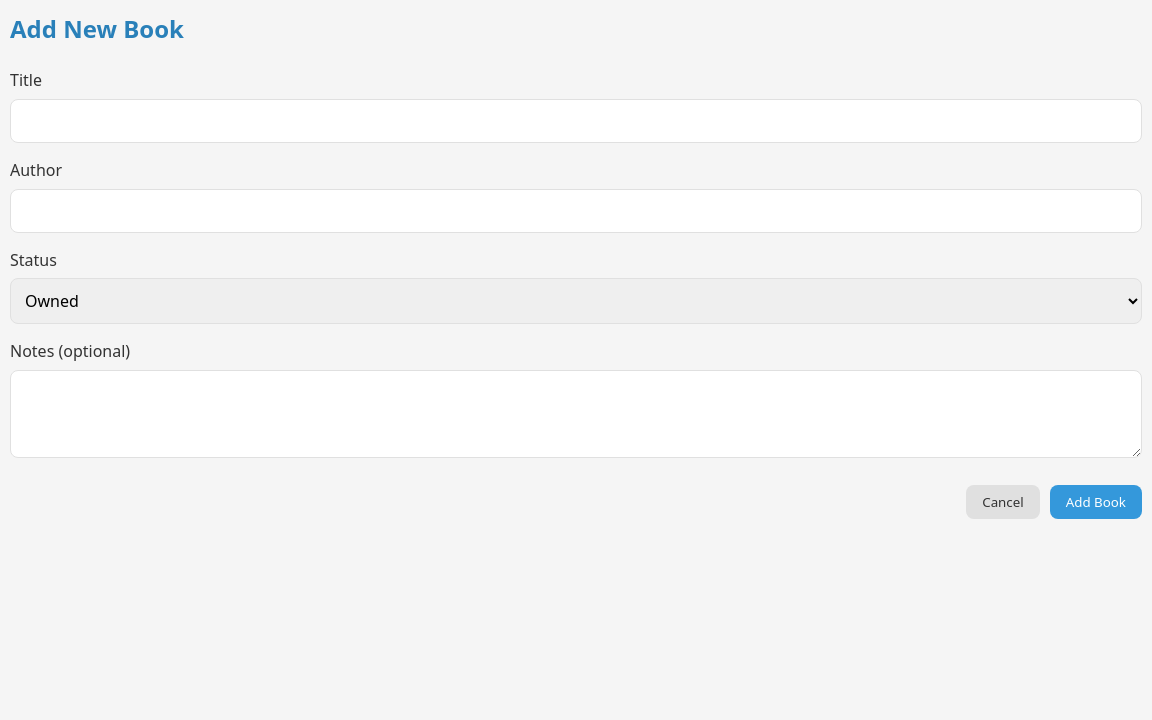
BookForm Component › shows validation errors when required fields are empty
Click the button "Add Book" at (1096, 502), box [1050,485,1142,519]
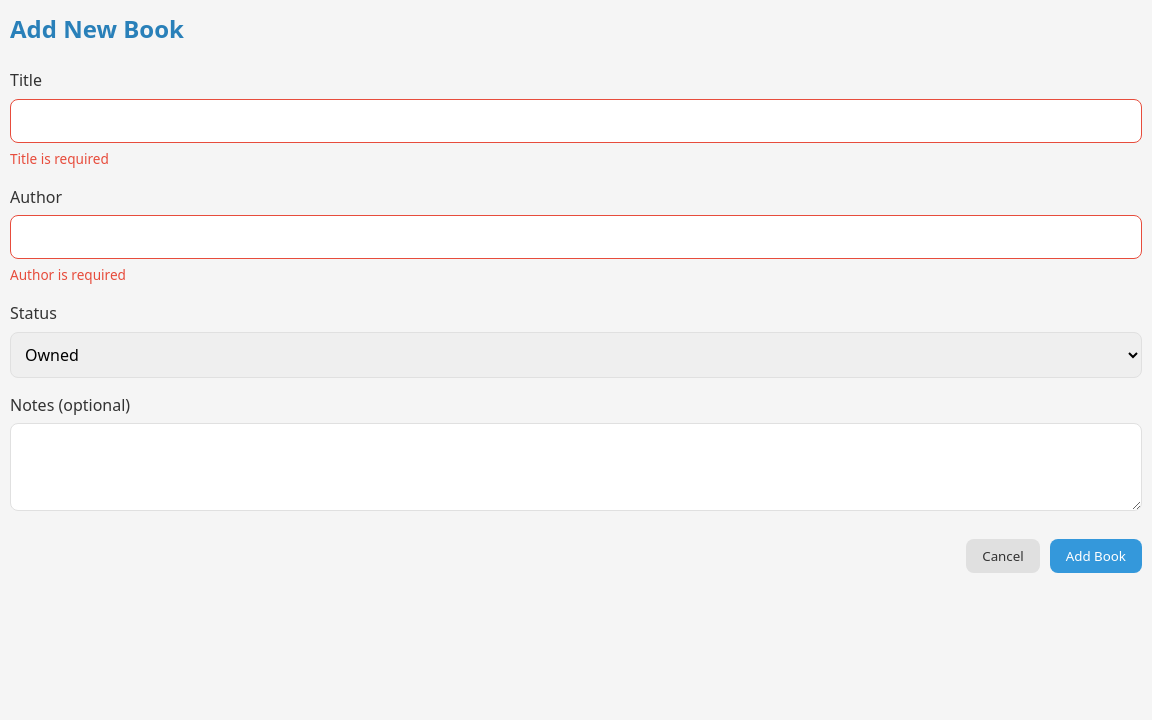
Expected: the text "Title is required" is shown, [10,149,109,168]
Expected: the text "Author is required" is shown, [10,265,126,284]
